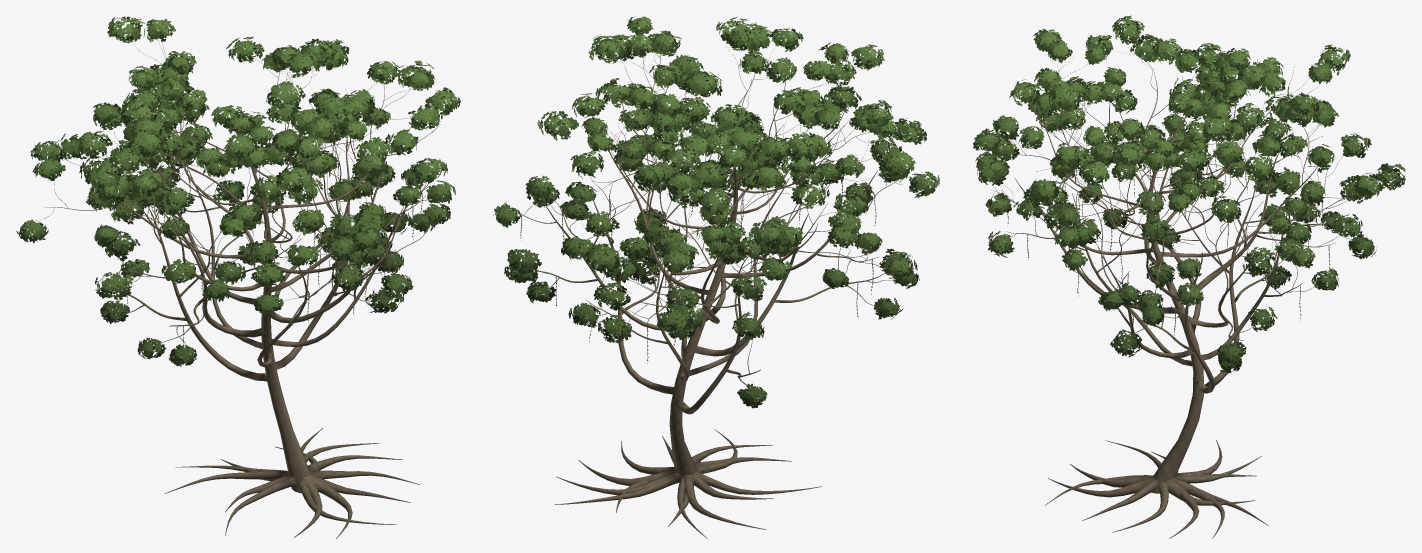
File: tree.gltf
3 views of the same model, side by side, from view 1: azimuth 30°, elevation 25°; view 2: azimuth 150°, elevation 25°; view 3: azimuth 270°, elevation 25° (orthographic). The views are drawn at different scales.
Parts seen in each view (by area): view 1: Tree_LOD0; view 2: Tree_LOD0; view 3: Tree_LOD0.
Part boxes in pixels (x1,y1,x2,y2): Tree_LOD0: [16, 16, 460, 538]; Tree_LOD0: [493, 16, 939, 538]; Tree_LOD0: [973, 15, 1405, 538].
Bounding box in the file's own units: 112 × 114 × 111.
Materials: 2 (2 with a texture image).
